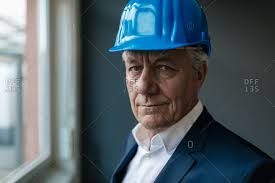Person_wearing_helmet: (109, 0, 210, 70)
